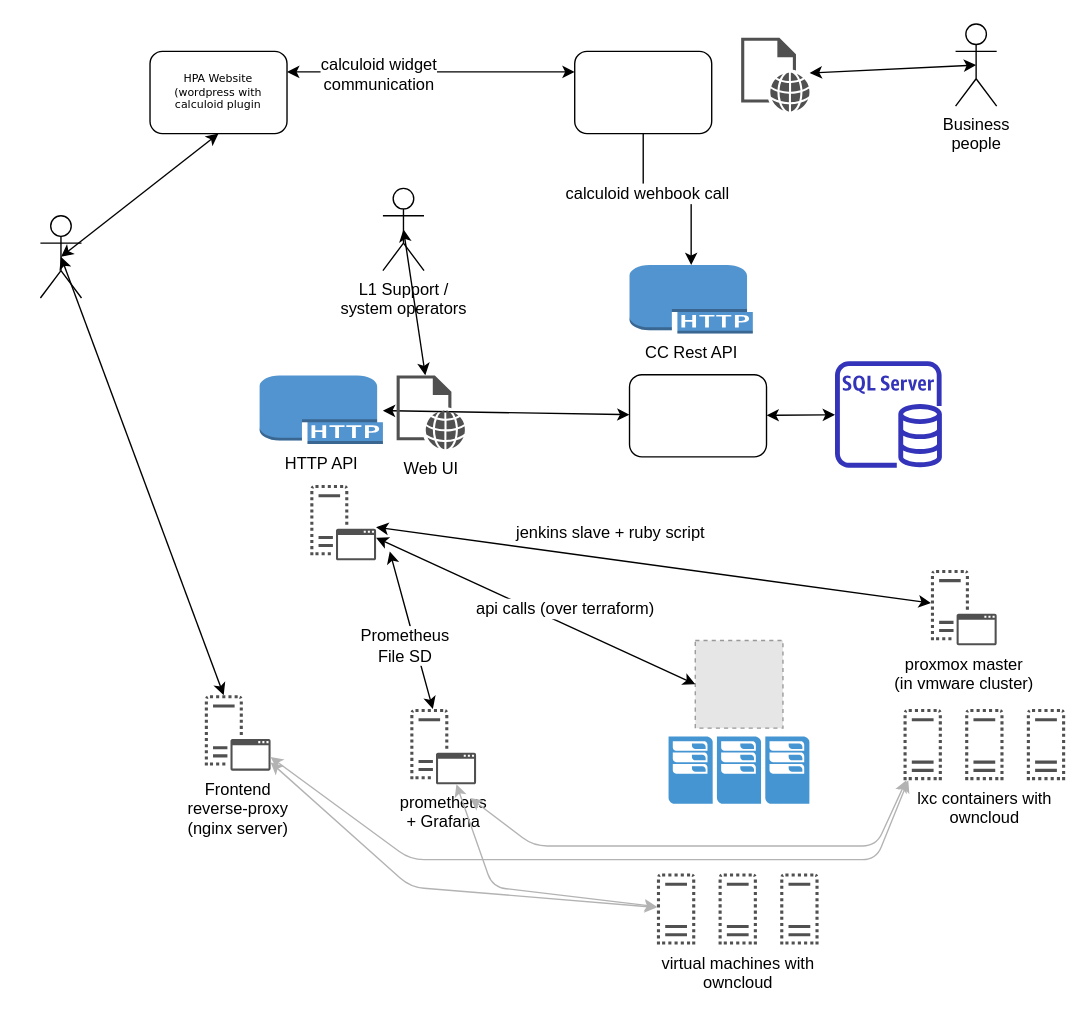
This 1089x1018 diagram has some shape labels left out. Grey dashed boxes stand in for pictures. Here are the shapes that lost their labels. From the top down, the box of each, then its label:
(573, 50, 712, 134): calculoid.com (widgets management)
(740, 37, 809, 111): calculoid administration
(39, 214, 82, 298): customers
(628, 373, 767, 457): HPA core server
(310, 484, 375, 560): Jenkins server
(668, 736, 809, 803): vmware vcenter cluster
